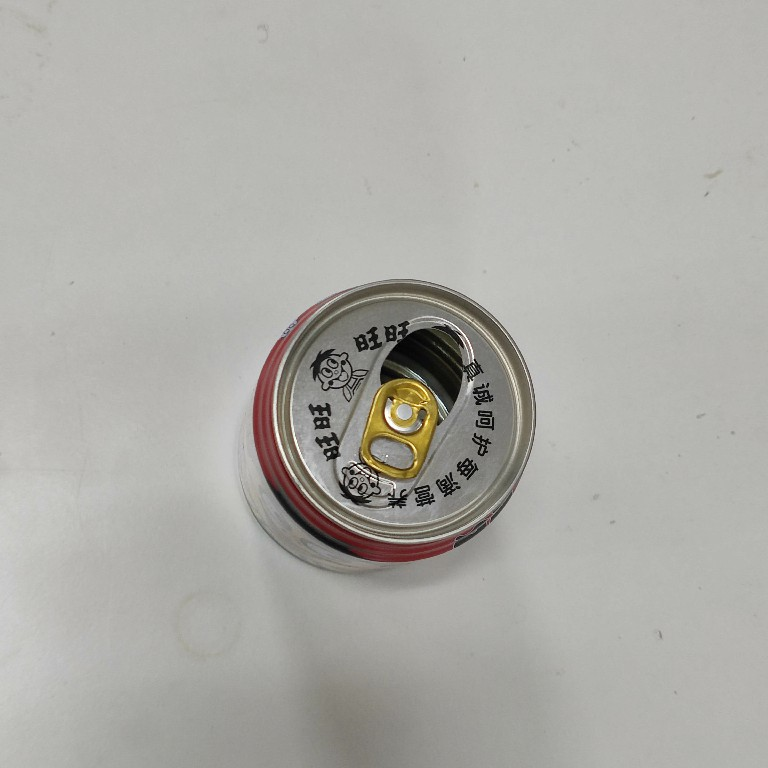can: (231, 273, 539, 583)
